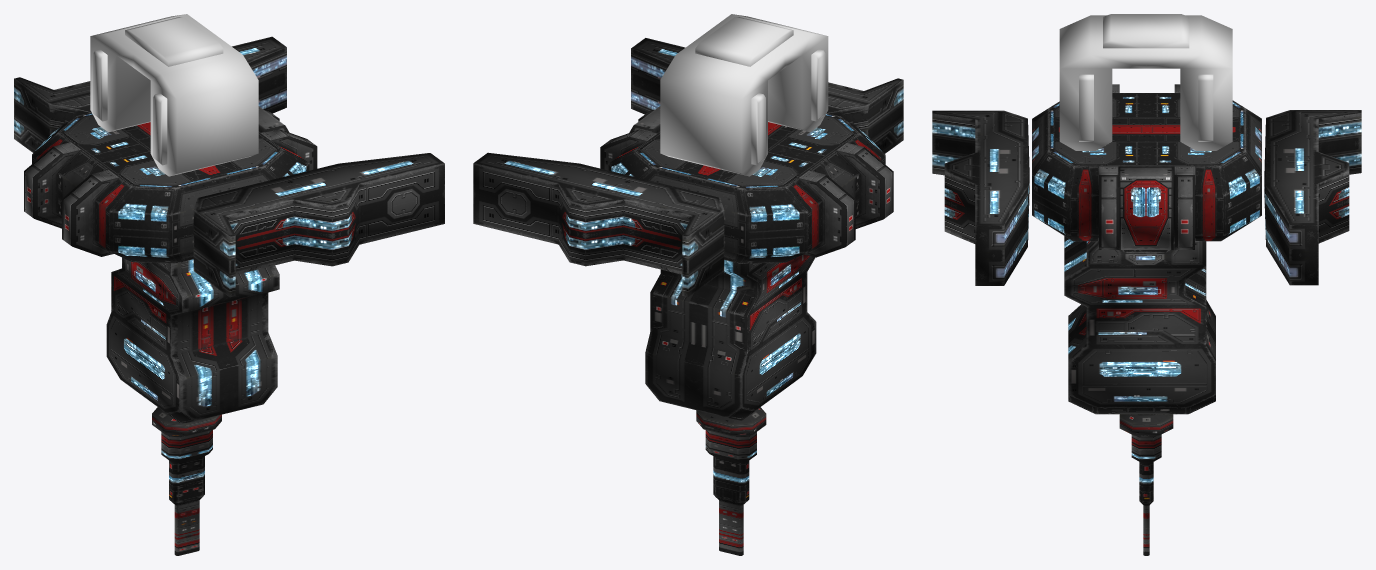
The model's file is Mesh_Roboform.fbx.
3 views of the same model, side by side, from view 1: azimuth 30°, elevation 25°; view 2: azimuth 150°, elevation 25°; view 3: azimuth 270°, elevation 25° (orthographic).
Parts seen in each view (by area): view 1: StationParts1A_Cube.001, StationParts2B_Cube.001, StationParts2A_Cube.003, FactoryPartsB_Cube.1135, StationParts2A_Cube.002, StationParts1D_Cube.002; view 2: StationParts1A_Cube.001, StationParts2A_Cube.002, StationParts2B_Cube.001, FactoryPartsB_Cube.1135, StationParts2A_Cube.003, StationParts1D_Cube.002; view 3: StationParts2B_Cube.001, StationParts1A_Cube.001, FactoryPartsB_Cube.1135, StationParts2A_Cube.003, StationParts2A_Cube.002, StationParts1C_Cube.001, StationParts1D_Cube.002.
Part boxes in pixels (<box>): StationParts1A_Cube.001: <box>24,109,317,263</box>; StationParts2B_Cube.001: <box>106,257,279,423</box>; StationParts2A_Cube.003: <box>193,153,444,297</box>; FactoryPartsB_Cube.1135: <box>90,14,258,176</box>; StationParts2A_Cube.002: <box>14,36,286,152</box>; StationParts1D_Cube.002: <box>152,407,221,555</box>; StationParts1A_Cube.001: <box>600,109,893,263</box>; StationParts2A_Cube.002: <box>473,152,724,296</box>; StationParts2B_Cube.001: <box>645,254,816,420</box>; FactoryPartsB_Cube.1135: <box>660,14,828,176</box>; StationParts2A_Cube.003: <box>631,38,903,153</box>; StationParts1D_Cube.002: <box>696,407,766,555</box>; StationParts2B_Cube.001: <box>1064,236,1215,414</box>; StationParts1A_Cube.001: <box>1032,84,1261,249</box>; FactoryPartsB_Cube.1135: <box>1059,14,1232,150</box>; StationParts2A_Cube.003: <box>932,110,1029,285</box>; StationParts2A_Cube.002: <box>1264,110,1361,285</box>; StationParts1C_Cube.001: <box>1118,166,1173,249</box>; StationParts1D_Cube.002: <box>1119,414,1173,555</box>.
Bounding box in the file's own units: 3376 × 5395 × 4062.
